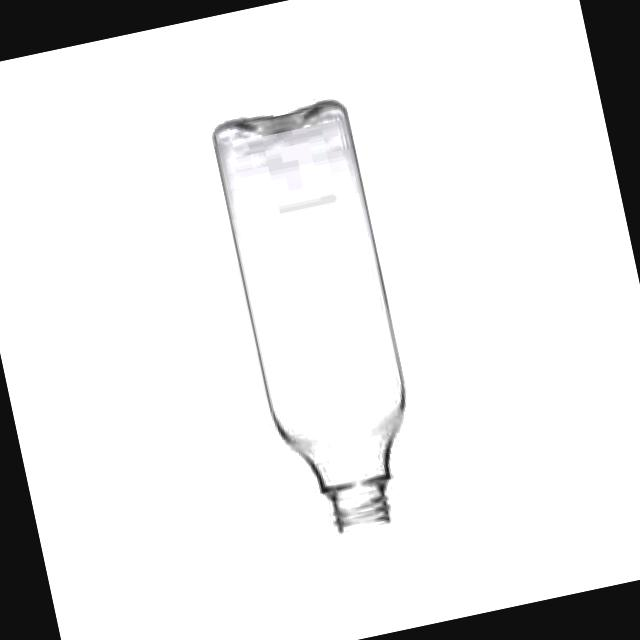plastic bottle: (213, 100, 406, 533)
